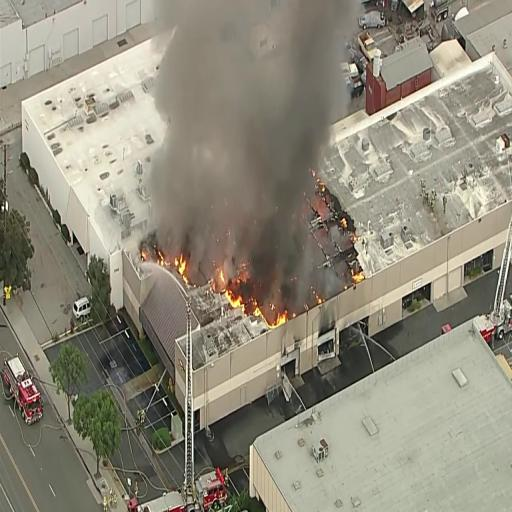smoke: (190, 0, 300, 198)
